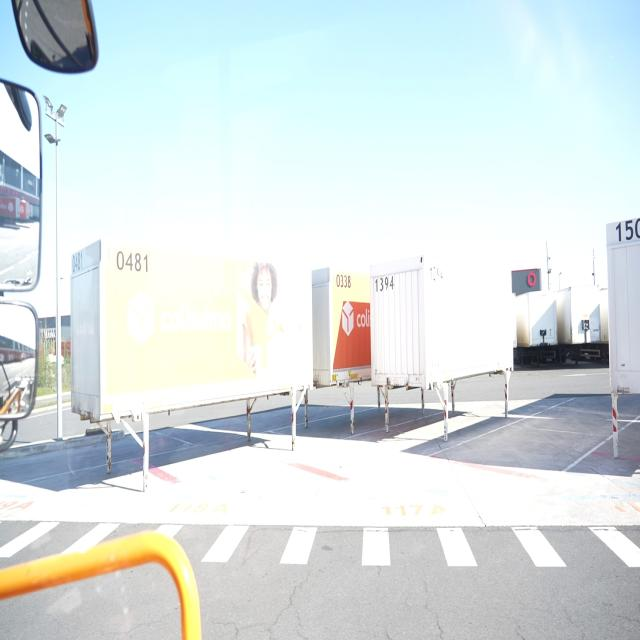Code: (112, 248, 152, 275), (69, 250, 86, 276), (372, 276, 394, 293), (334, 272, 353, 289)
